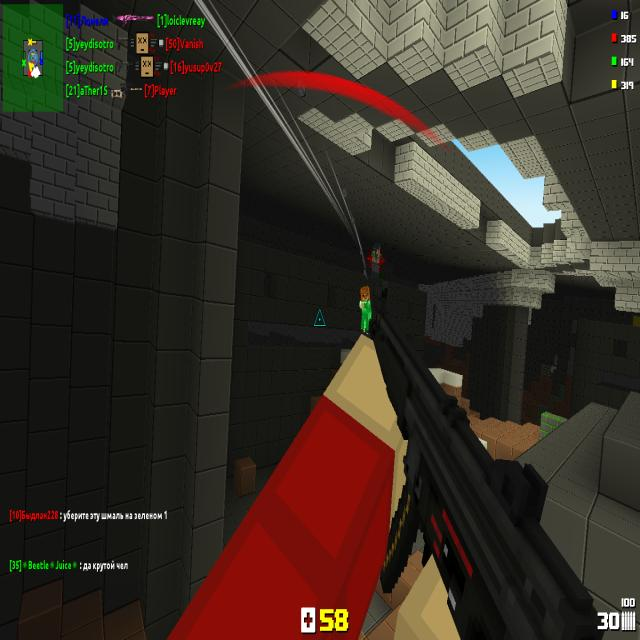enemy: (358, 286, 372, 334), (371, 242, 383, 280)
